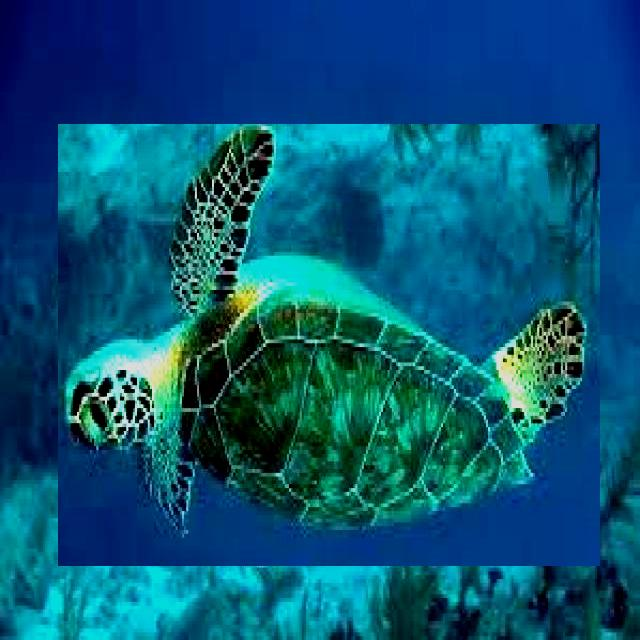Sea turtle: (58, 124, 600, 566)
